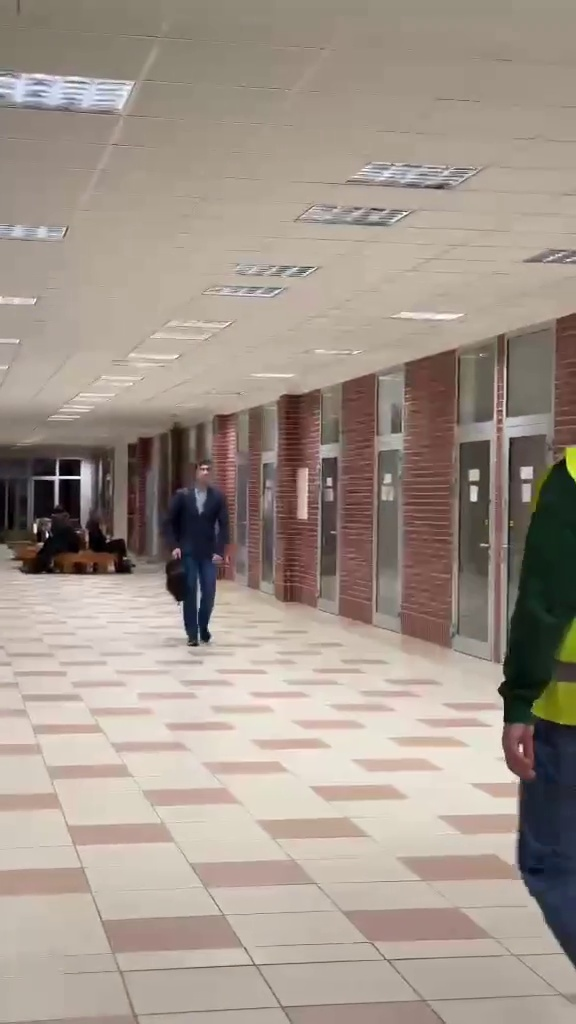no vest: (160, 461, 239, 635)
vest: (505, 425, 576, 978)
